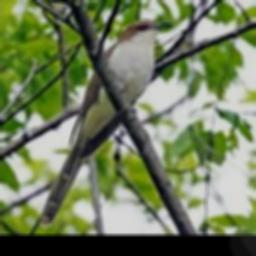Cuckoo: (41, 20, 174, 228)
